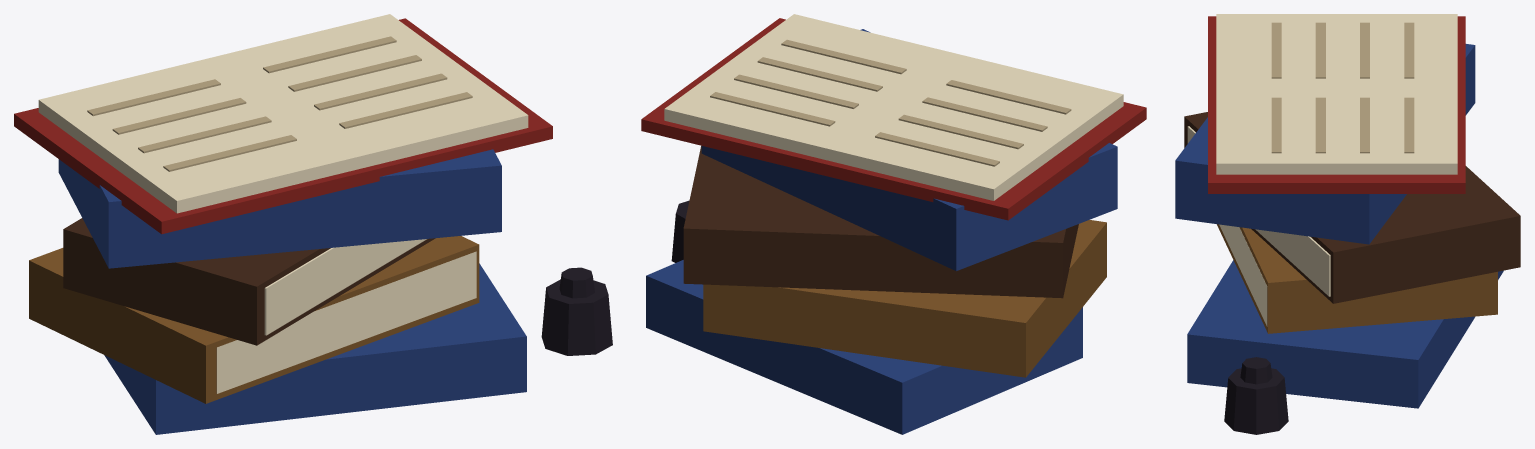
The model's file is book_pile.glb.
3 renders of one model, left to right at view 1: azimuth 30°, elevation 25°; view 2: azimuth 150°, elevation 25°; view 3: azimuth 270°, elevation 25°, orthographic. The views are drawn at different scales.
Visible parts, largest first — view 1: book_pile2; view 2: book_pile2; view 3: book_pile2.
Boxes of the visible parts, x1,y1,x2,y2 form: book_pile2: (14,14,612,434); book_pile2: (641,14,1146,434); book_pile2: (1175,14,1520,434).
Bounding box in the file's own units: 1.22 × 0.6265 × 0.8584.
